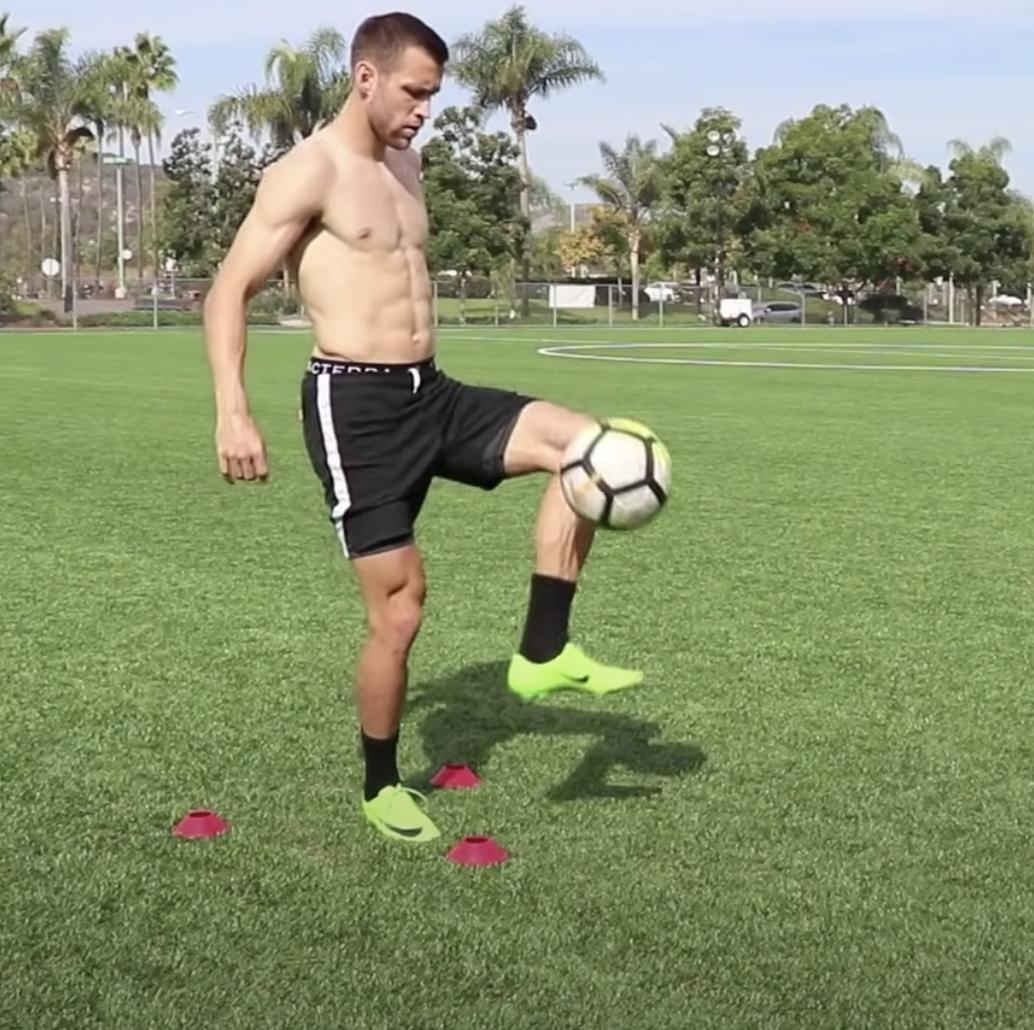ball: (562, 420, 671, 529)
foot: (507, 642, 641, 704), (361, 778, 444, 848)
person: (199, 13, 644, 853)
